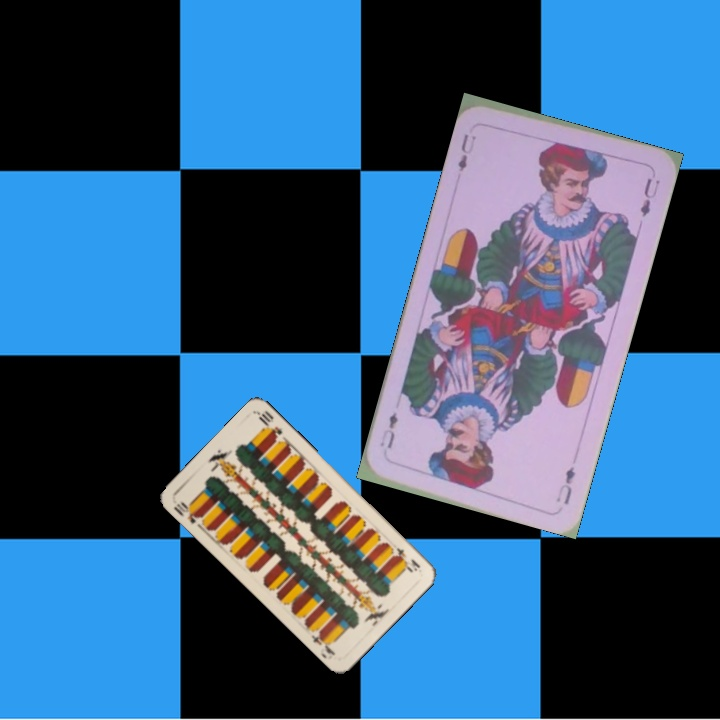E10: (170, 497, 207, 527), (392, 544, 423, 574)
EU: (552, 462, 578, 507), (454, 130, 479, 174)
